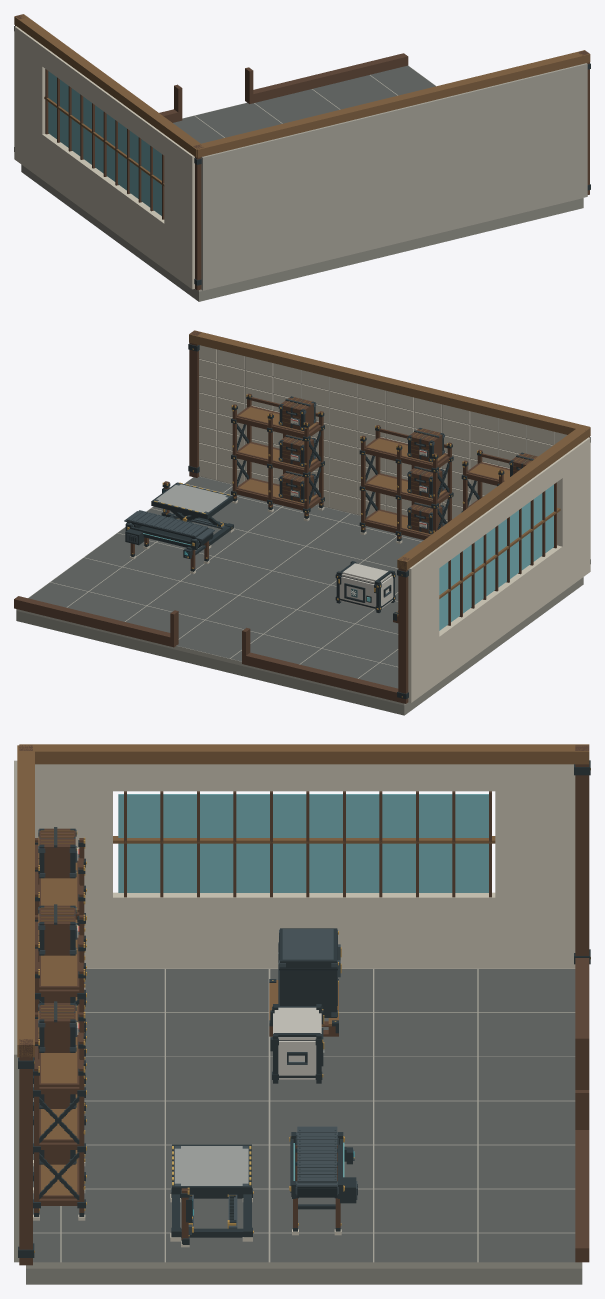
Rendered from visual-far.glb.
The picture shows the model from 3 angles, top to bottom: view 1: azimuth 30°, elevation 25°; view 2: azimuth 150°, elevation 25°; view 3: azimuth 270°, elevation 25°; orthographic projection. The views are drawn at different scales.
Parts seen in each view (by area): view 1: 真实窗洞、木梁与切角房间墙, 分层实心台基与独立石铺面; view 2: 真实窗洞、木梁与切角房间墙, 分层实心台基与独立石铺面, 仓储货架梁柱 (×3), 杂货包装箱 (×6), 输送带传输单元, 装卸平台/升降托板, 冷链货箱; view 3: 分层实心台基与独立石铺面, 真实窗洞、木梁与切角房间墙, 仓储货架梁柱 (×3), 装卸平台/升降托板, 杂货包装箱 (×3), 输送带传输单元, 仓储货箱, 冷链货箱.
Boxes of the visible parts, x1,y1,x2,y2 form: 真实窗洞、木梁与切角房间墙: [14, 14, 590, 290]; 分层实心台基与独立石铺面: [21, 65, 583, 301]; 真实窗洞、木梁与切角房间墙: [14, 330, 590, 703]; 分层实心台基与独立石铺面: [16, 476, 583, 715]; 仓储货架梁柱 (×3): [231, 393, 510, 543]; 杂货包装箱 (×6): [278, 396, 444, 534]; 输送带传输单元: [124, 510, 214, 574]; 装卸平台/升降托板: [151, 481, 234, 548]; 冷链货箱: [335, 561, 395, 612]; 分层实心台基与独立石铺面: [26, 968, 582, 1284]; 真实窗洞、木梁与切角房间墙: [14, 744, 590, 1265]; 仓储货架梁柱 (×3): [33, 837, 86, 1220]; 装卸平台/升降托板: [170, 1144, 253, 1247]; 杂货包装箱 (×3): [38, 827, 79, 1052]; 输送带传输单元: [289, 1126, 357, 1235]; 仓储货箱: [278, 928, 341, 1017]; 冷链货箱: [270, 1004, 324, 1083].
Bounding box in the file's own units: 8.24 × 3.08 × 6.64.
25 materials, 25 textured.
